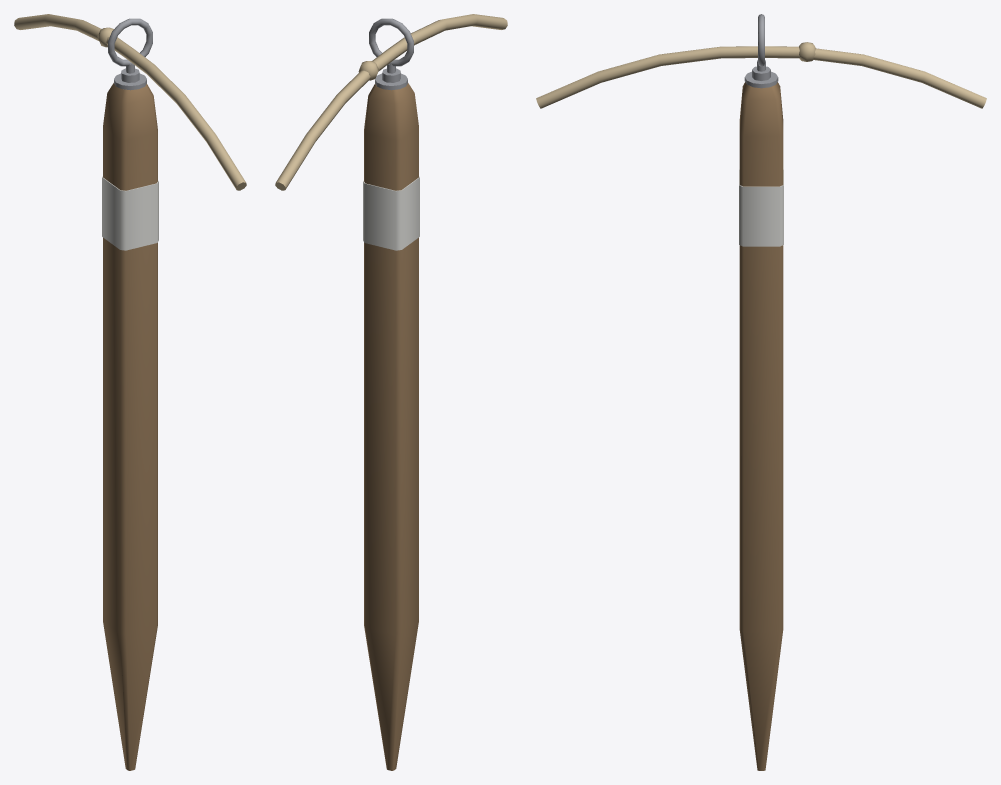
The model's file is rope-post.glb.
3 renders of one model, left to right at view 1: azimuth 30°, elevation 25°; view 2: azimuth 150°, elevation 25°; view 3: azimuth 270°, elevation 25°, orthographic.
Parts seen in each view (by area): view 1: SM_Jam_RopePost; view 2: SM_Jam_RopePost; view 3: SM_Jam_RopePost.
Part boxes in pixels (<box>): SM_Jam_RopePost: <box>14,14,246,770</box>; SM_Jam_RopePost: <box>275,14,507,770</box>; SM_Jam_RopePost: <box>536,14,986,770</box>.
Size of the model in its own units: 0.0509 by 0.8206 by 0.4453.
